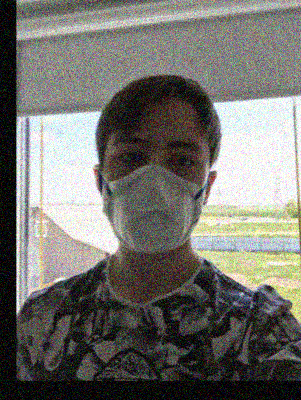with_mask: (99, 119, 208, 251)
